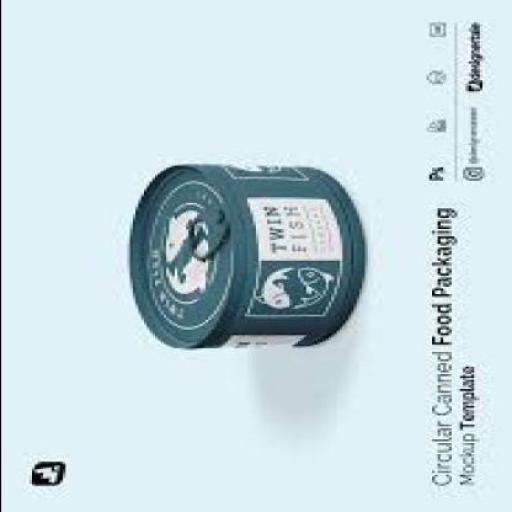metal: (126, 166, 364, 350)
